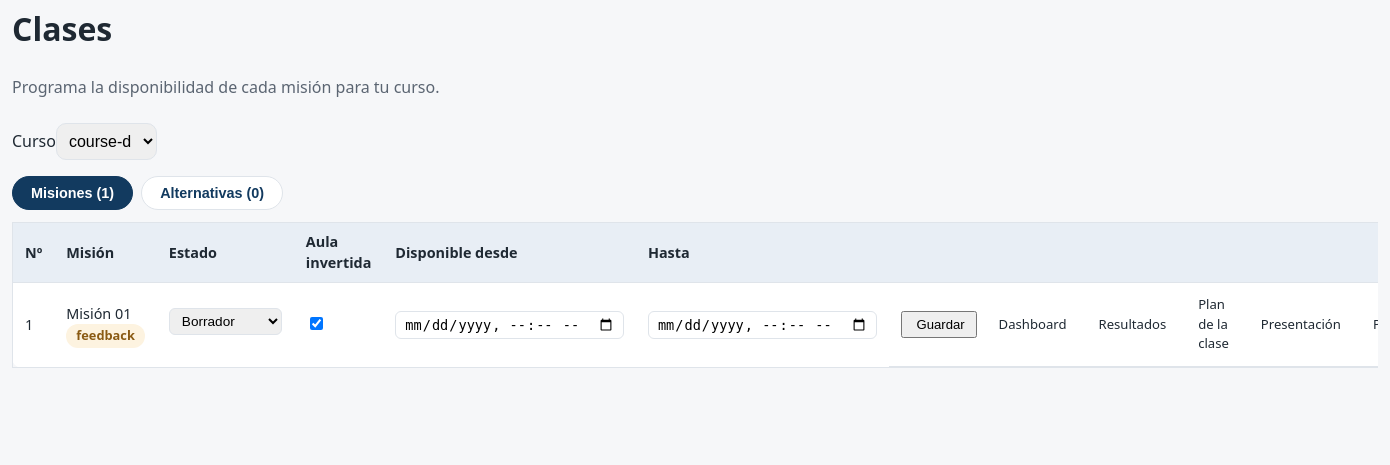
Test: ClassesView › guarda la programación de una clase vía función
Click the button "Guardar" at (939, 325), box top-left (900, 311), bottom-right (977, 338)
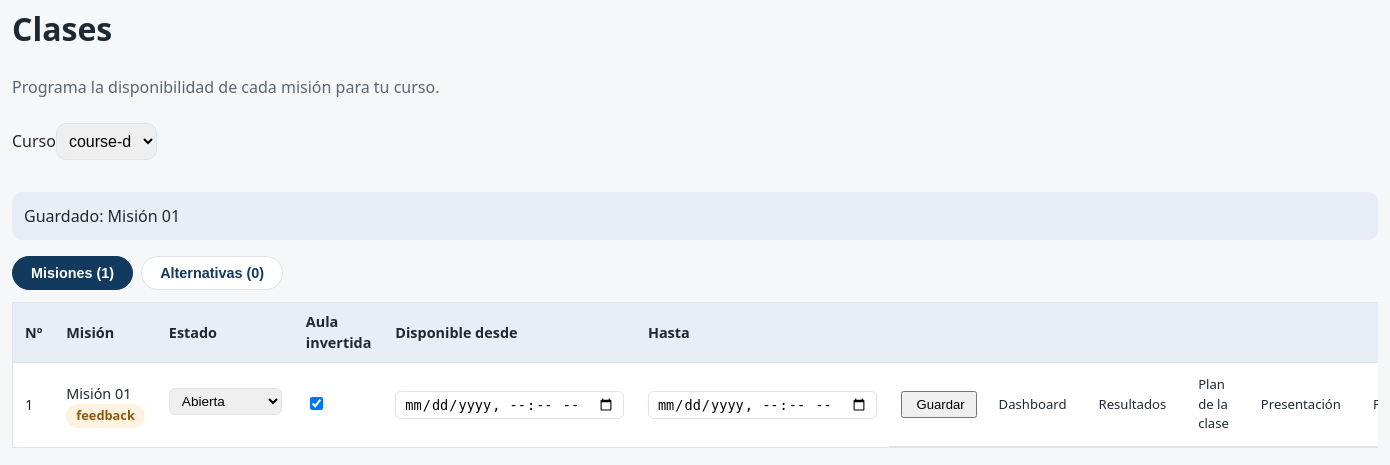
Expected: the text "Guardado" is shown, top-left (24, 205), bottom-right (180, 227)
